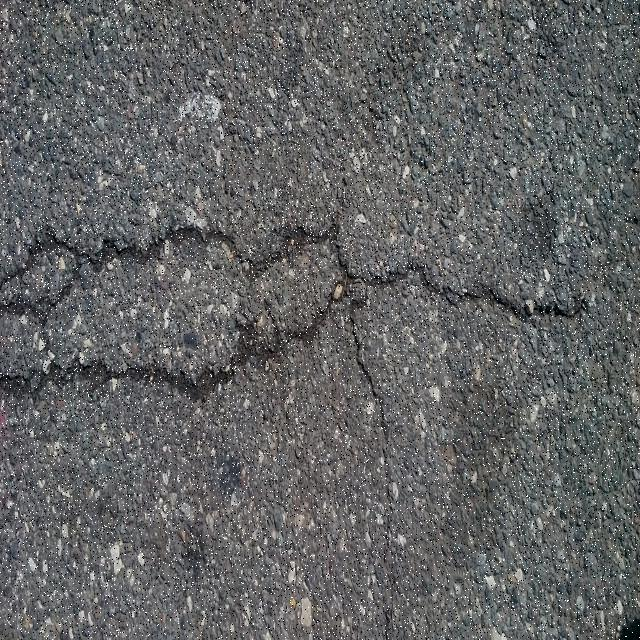Crack: (0, 214, 588, 495)
